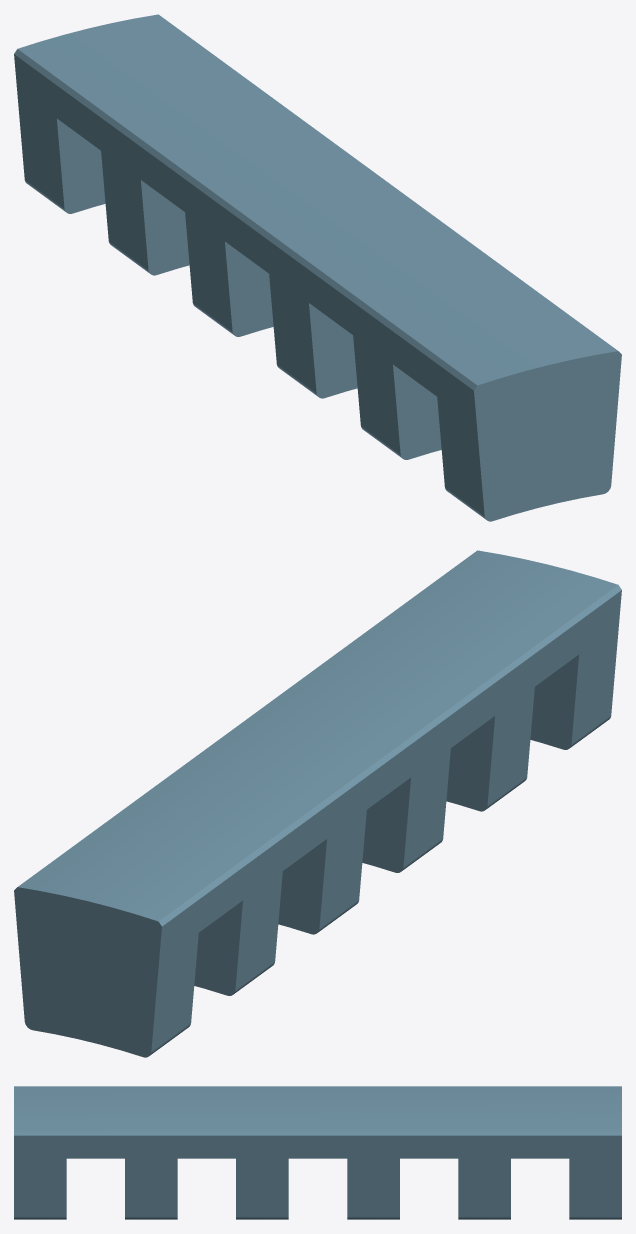
Rendered from comb-device-5.glb.
3 renders of one model, top to bottom at view 1: azimuth 30°, elevation 25°; view 2: azimuth 150°, elevation 25°; view 3: azimuth 270°, elevation 25°, orthographic. The views are drawn at different scales.
Parts seen in each view (by area): view 1: comb-device-5; view 2: comb-device-5; view 3: comb-device-5.
Boxes of the visible parts, x1,y1,x2,y2 form: comb-device-5: [14, 14, 621, 521]; comb-device-5: [14, 550, 621, 1057]; comb-device-5: [14, 1086, 621, 1219].
Bounding box in the file's own units: 38.65 × 35.56 × 208.
